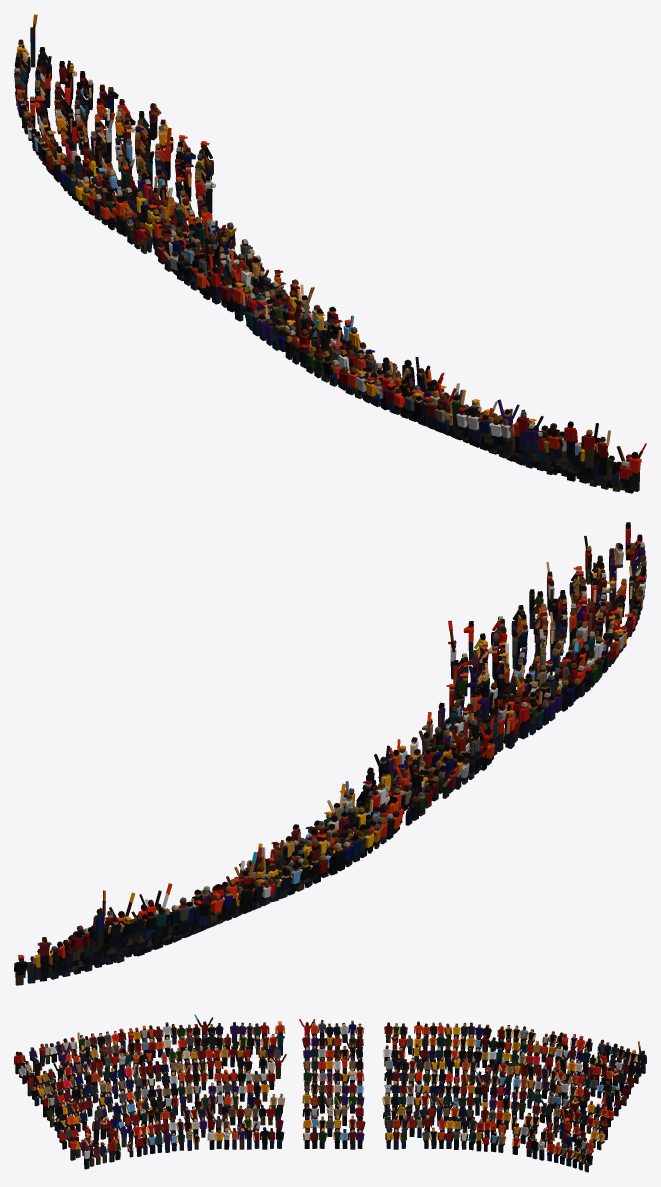
Rendered from SM_Crowd_UpperLeft.fbx.
The picture shows the model from 3 angles, top to bottom: view 1: azimuth 30°, elevation 25°; view 2: azimuth 150°, elevation 25°; view 3: azimuth 270°, elevation 25°; orthographic projection. The views are drawn at different scales.
Parts seen in each view (by area): view 1: SM_Crowd_UpperLeft; view 2: SM_Crowd_UpperLeft; view 3: SM_Crowd_UpperLeft.
Boxes of the visible parts, box(x1,y1,x2,y2) form: SM_Crowd_UpperLeft: box(14, 14, 646, 493); SM_Crowd_UpperLeft: box(14, 522, 646, 985); SM_Crowd_UpperLeft: box(14, 1014, 646, 1172).
Size of the model in its own units: 1231 by 749 by 4612.
